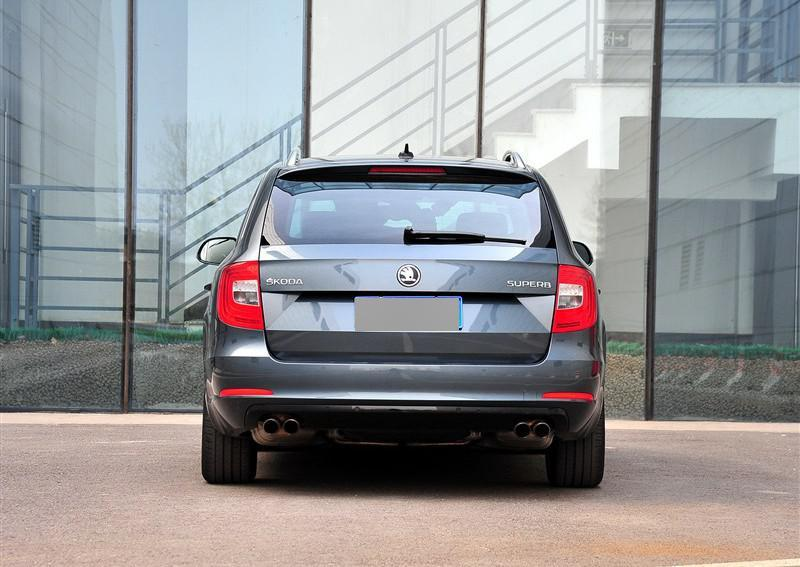Wagon: (197, 144, 609, 485)
